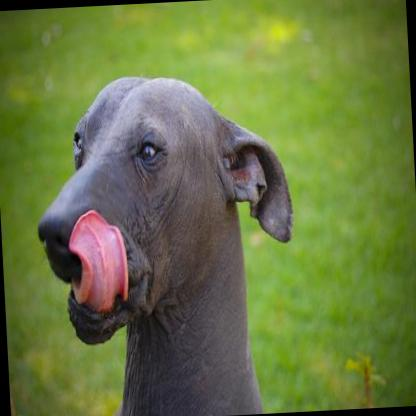Mexican_hairless: (24, 59, 306, 416)
